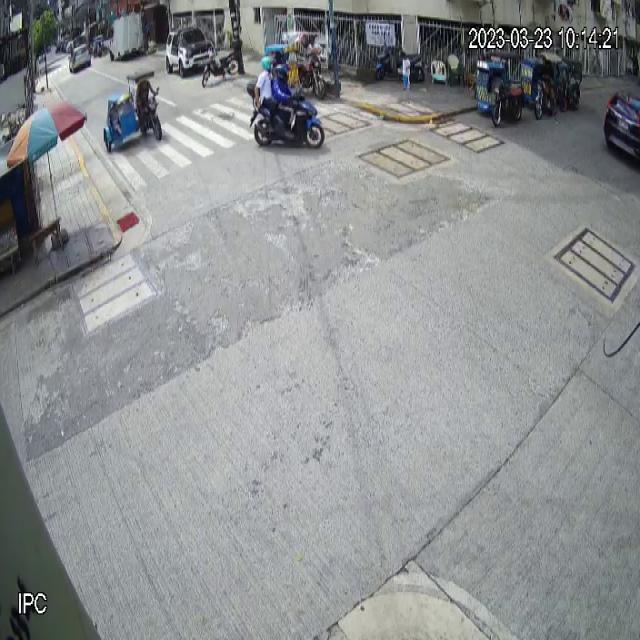Motorcycle: (246, 78, 325, 152)
Tricycle: (102, 68, 162, 154), (474, 51, 524, 128)
